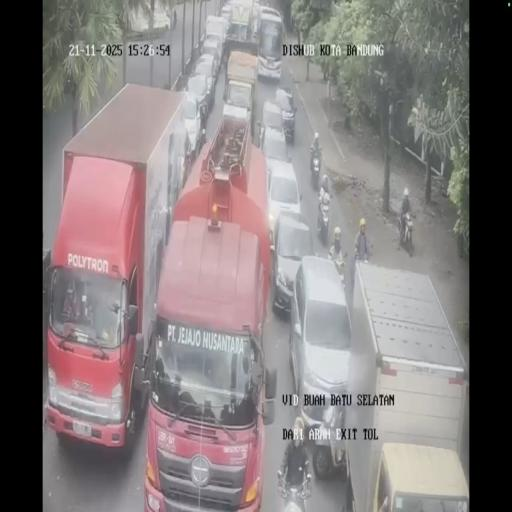car: (262, 153, 300, 248), (186, 70, 214, 126), (259, 100, 288, 152), (199, 35, 223, 78), (220, 2, 232, 27)
motorcycle: (398, 210, 414, 255), (328, 247, 348, 283), (309, 143, 323, 188)
truck: (338, 260, 468, 510)
